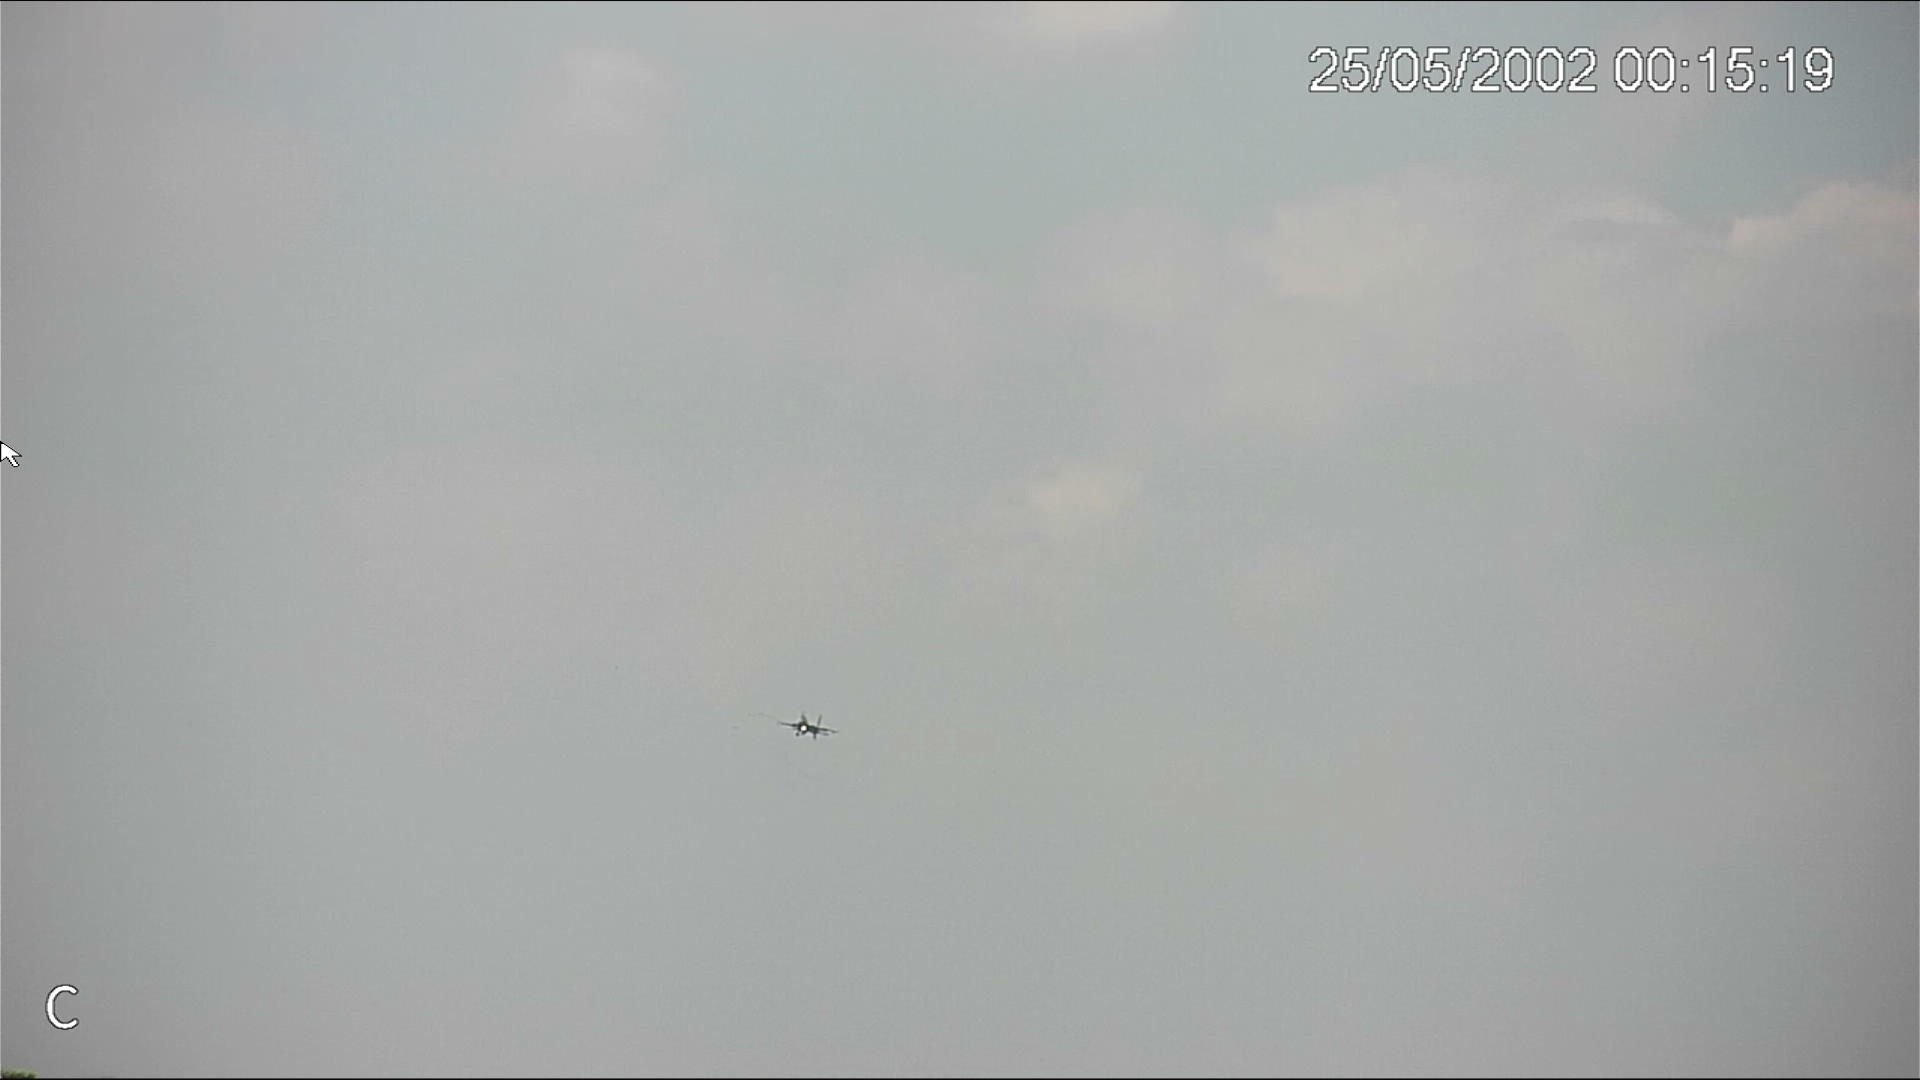SU_30: (778, 709, 837, 740)
